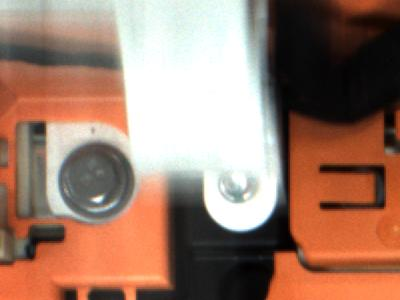nut_b: (52, 140, 133, 224)
